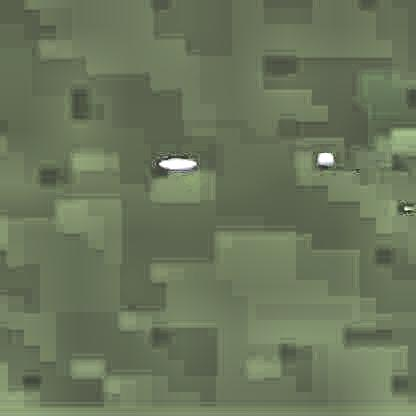golfball: (314, 148, 331, 165)
